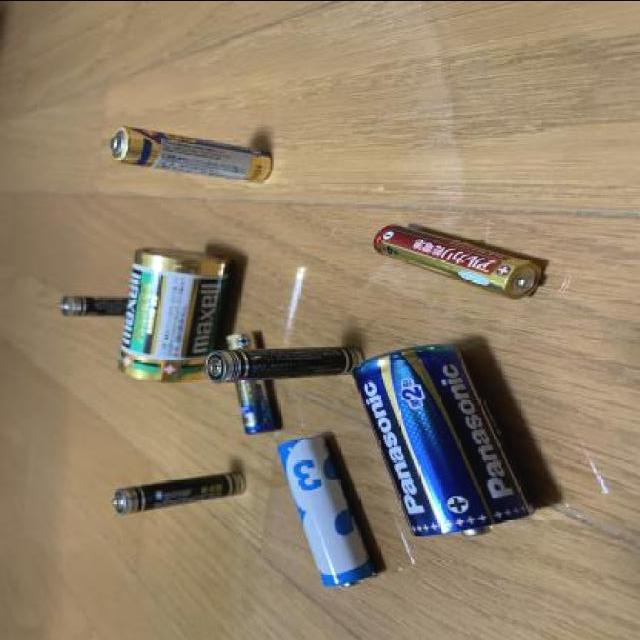AA: (277, 430, 377, 588)
AAA: (370, 222, 546, 302), (109, 125, 277, 187), (204, 338, 364, 382)
